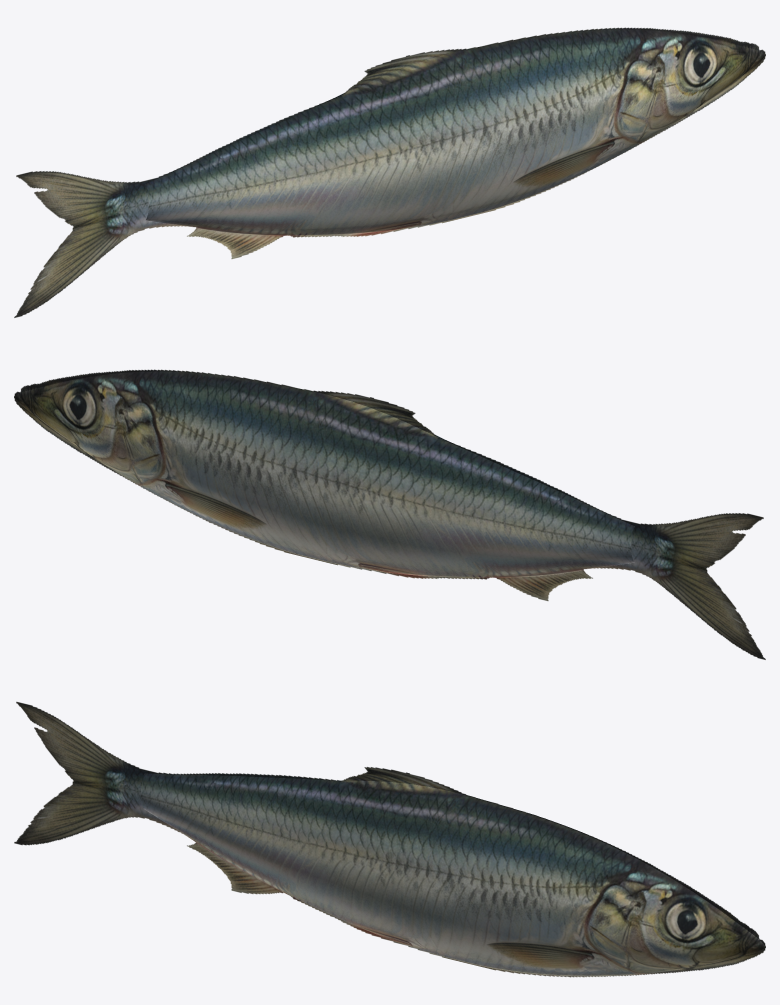
File: herring.gltf
3 views of the same model, one above another, from view 1: azimuth 30°, elevation 25°; view 2: azimuth 150°, elevation 25°; view 3: azimuth 330°, elevation 25° (orthographic).
Visible parts, largest first — view 1: herring; view 2: herring; view 3: herring.
Boxes of the visible parts, x1,y1,x2,y2 form: herring: (14,27,765,317); herring: (14,369,765,659); herring: (14,702,765,977).
Bounding box in the file's own units: 1.28 × 0.2867 × 0.1142.
Materials: 1 (1 with a texture image).
